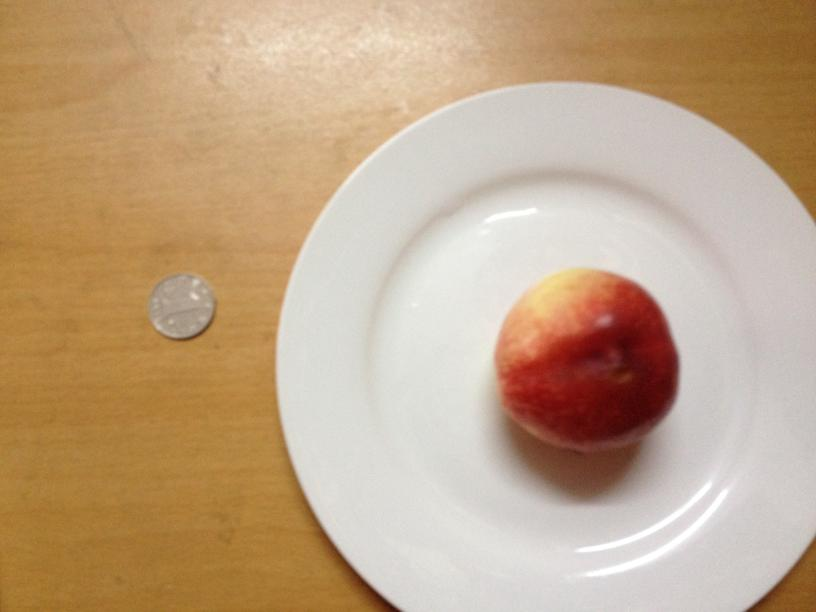coin: (145, 272, 218, 340)
peach: (491, 266, 679, 453)
